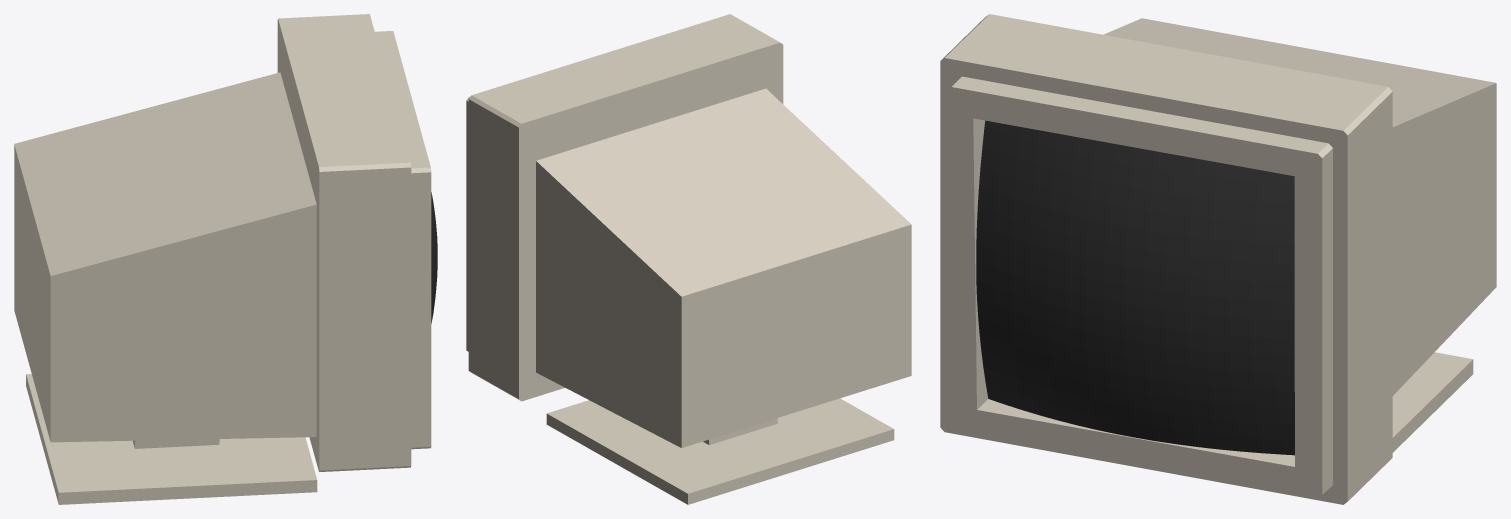
Rendered from monitor.glb.
The picture shows the model from 3 angles, left to right: view 1: azimuth 30°, elevation 25°; view 2: azimuth 150°, elevation 25°; view 3: azimuth 270°, elevation 25°; orthographic projection. The views are drawn at different scales.
Parts seen in each view (by area): view 1: MonitorScreen; view 2: MonitorScreen; view 3: MonitorScreen.
Boxes of the visible parts, box(x1,y1,x2,y2) form: MonitorScreen: box(14, 14, 437, 504); MonitorScreen: box(466, 14, 911, 504); MonitorScreen: box(940, 14, 1496, 504).
Bounding box in the file's own units: 0.3444 × 0.2694 × 0.3254.
